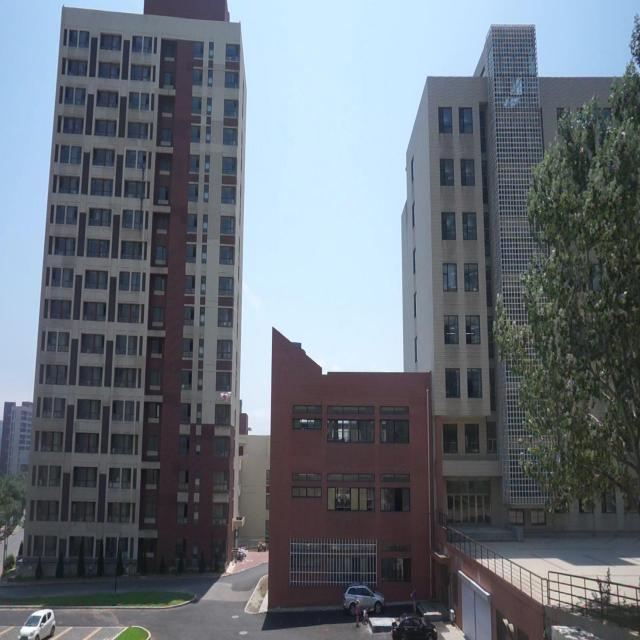UAV: (220, 391, 232, 402)
